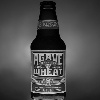beer: (29, 2, 64, 100)
